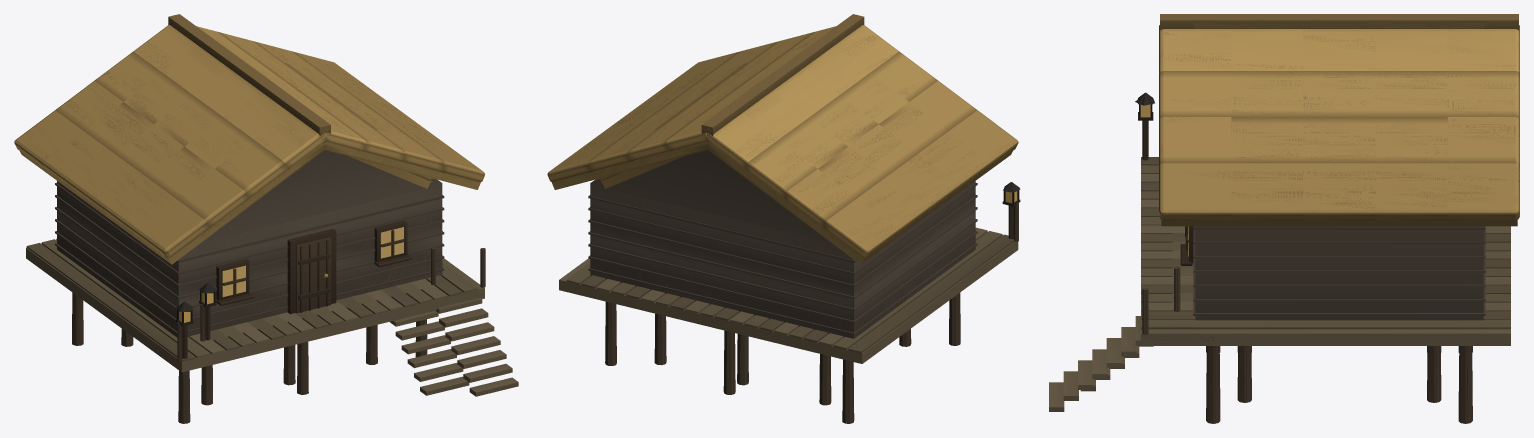
File: houses-stilt.glb
The picture shows the model from 3 angles, left to right: view 1: azimuth 30°, elevation 25°; view 2: azimuth 150°, elevation 25°; view 3: azimuth 270°, elevation 25°; orthographic projection. The views are drawn at different scales.
Parts seen in each view (by area): view 1: house_stilt_l0, house_stilt_l0__lod, house_stilt_l1, house_stilt_s0, house_stilt_s0__lod, house_stilt_l0__glow; view 2: house_stilt_l0, house_stilt_l1, house_stilt_l0__lod, house_stilt_s0, house_stilt_s0__lod; view 3: house_stilt_l0, house_stilt_l0__lod, house_stilt_l1, house_stilt_s0, house_stilt_s0__lod.
Part boxes in pixels (x1,y1,x2,y2): house_stilt_l0: (14,25,517,423); house_stilt_l0__lod: (15,14,518,423); house_stilt_l1: (17,27,483,335); house_stilt_s0: (122,171,466,405); house_stilt_s0__lod: (121,156,469,405); house_stilt_l0__glow: (179,227,403,322); house_stilt_l0: (547,25,1019,423); house_stilt_l1: (548,27,1016,337); house_stilt_l0__lod: (548,14,1020,423); house_stilt_s0: (599,171,911,405); house_stilt_s0__lod: (601,156,909,404); house_stilt_l0: (1050,25,1519,423); house_stilt_l0__lod: (1049,14,1518,423); house_stilt_l1: (1148,29,1519,340); house_stilt_s0: (1082,23,1484,402); house_stilt_s0__lod: (1080,266,1436,402).
Bounding box in the file's own units: 9.76 × 8.2 × 10.44.
